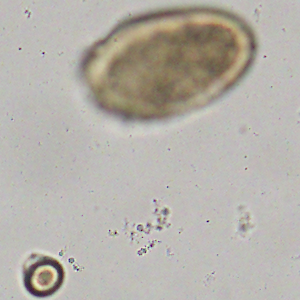Fasciola_hepatica_egg: (79, 6, 257, 123)
